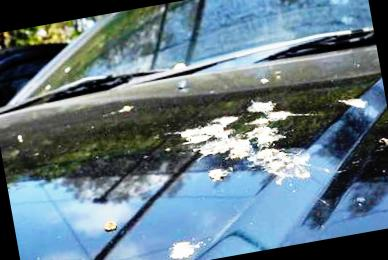Bird Poop: (175, 102, 309, 183), (170, 241, 203, 258), (208, 166, 231, 180), (340, 98, 365, 107), (105, 220, 116, 230), (174, 62, 185, 70), (118, 106, 132, 111), (378, 137, 388, 144), (356, 197, 364, 202), (261, 77, 267, 82), (64, 66, 69, 72), (44, 84, 50, 89), (17, 134, 21, 141)
